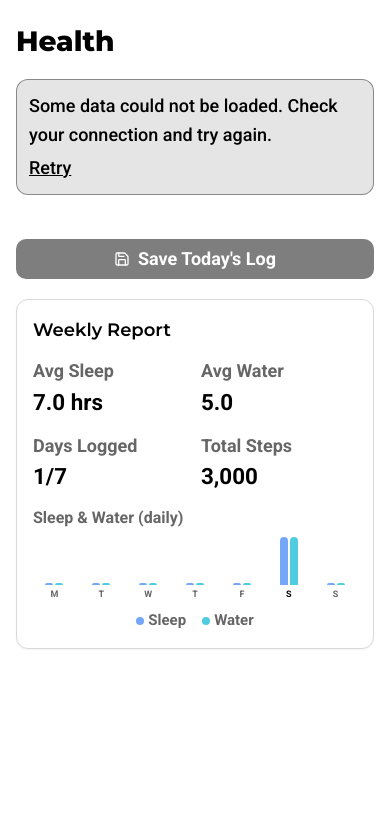
it: HealthPage zero-overwrite guard › retry after a failed read loads the existing values, and Save preserves them
Later steps or results of the test are not shown.
Check: the text "Some data could not be loaded. Check your connection and try again." is shown, box x1=29 y1=92 x2=361 y2=150
Step 1. Click the button "Retry" → click(50, 168), box x1=29 y1=154 x2=71 y2=182
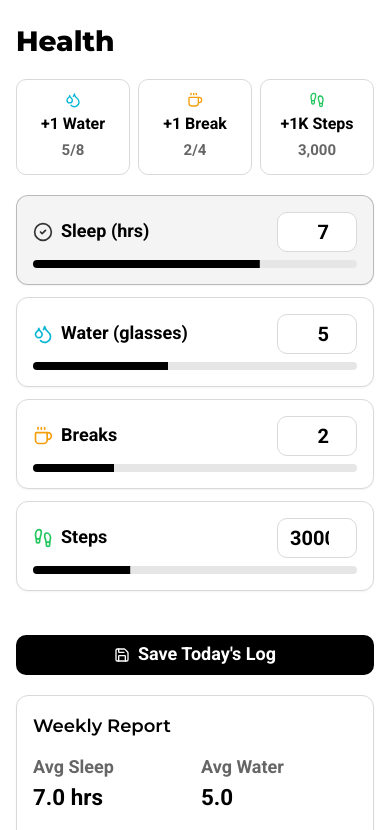
Check: the number field labelled "Sleep (hrs)" holds "7", box x1=277 y1=212 x2=357 y2=252
Check: the number field labelled "Water (glasses)" holds "5", box x1=277 y1=314 x2=357 y2=354
